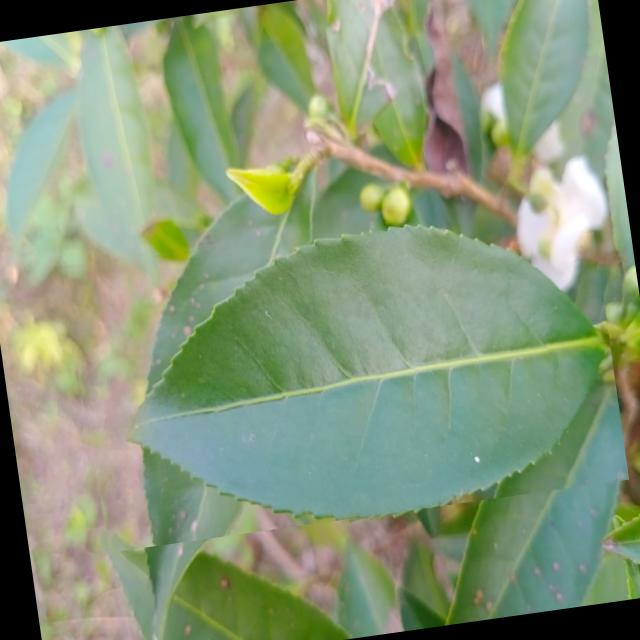Category D(7+ days, Not for Tea): (59, 191, 629, 554)
